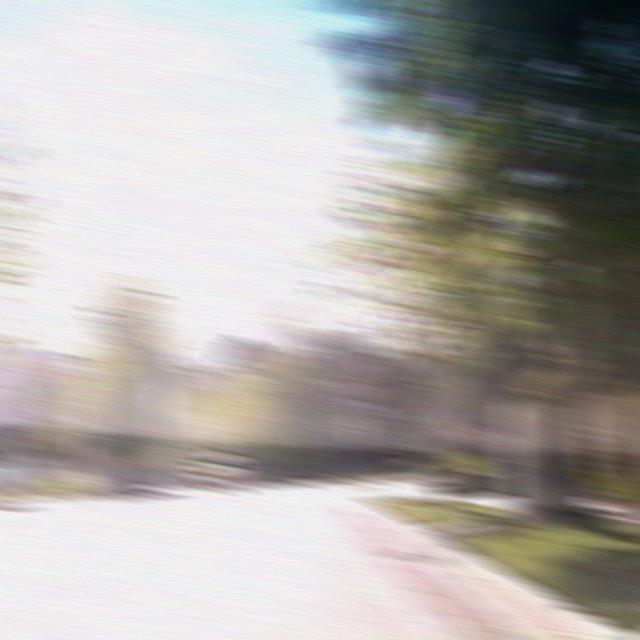stop: (355, 372, 390, 408)
